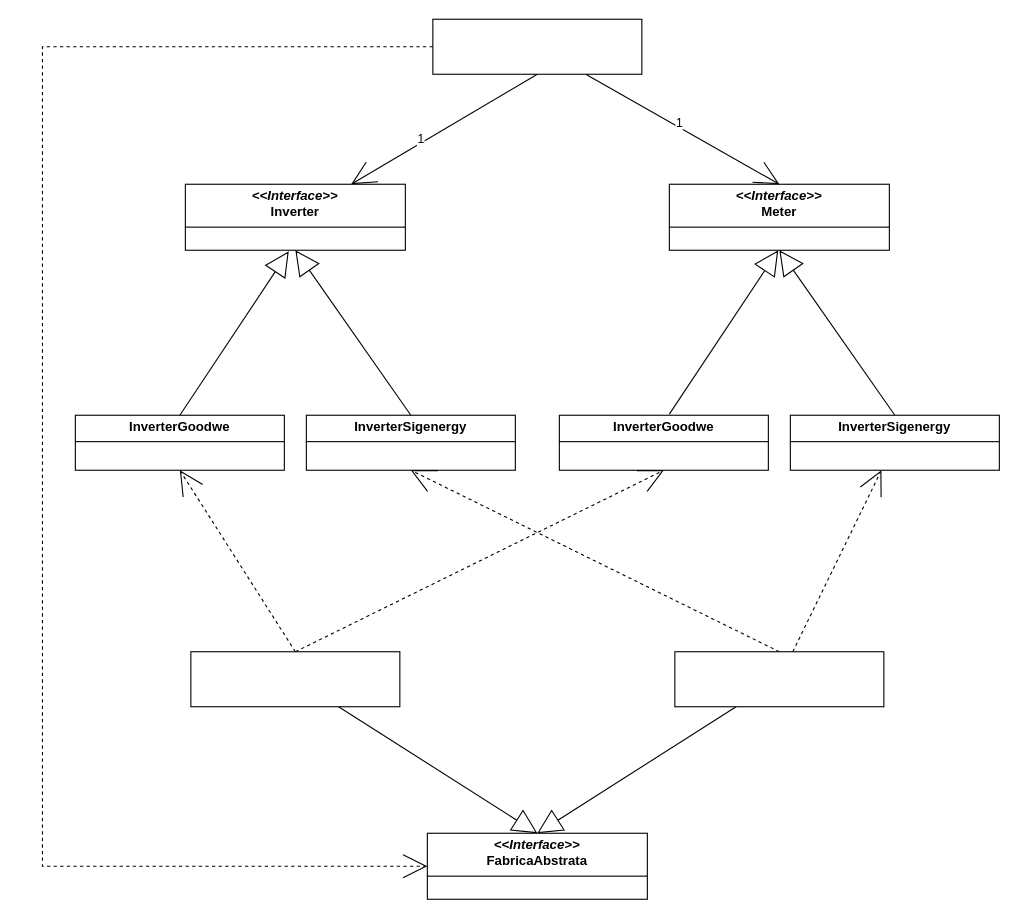
Some shapes in this 1019 by 919 pixel diagram are drawn without their labels. The centre of each missing label's shape, as x and y in pixels:
"Fabrica Goodwe" goes at [295,679].
"FabricaSigenergy" goes at [779,679].
"Grid" goes at [537,46].
